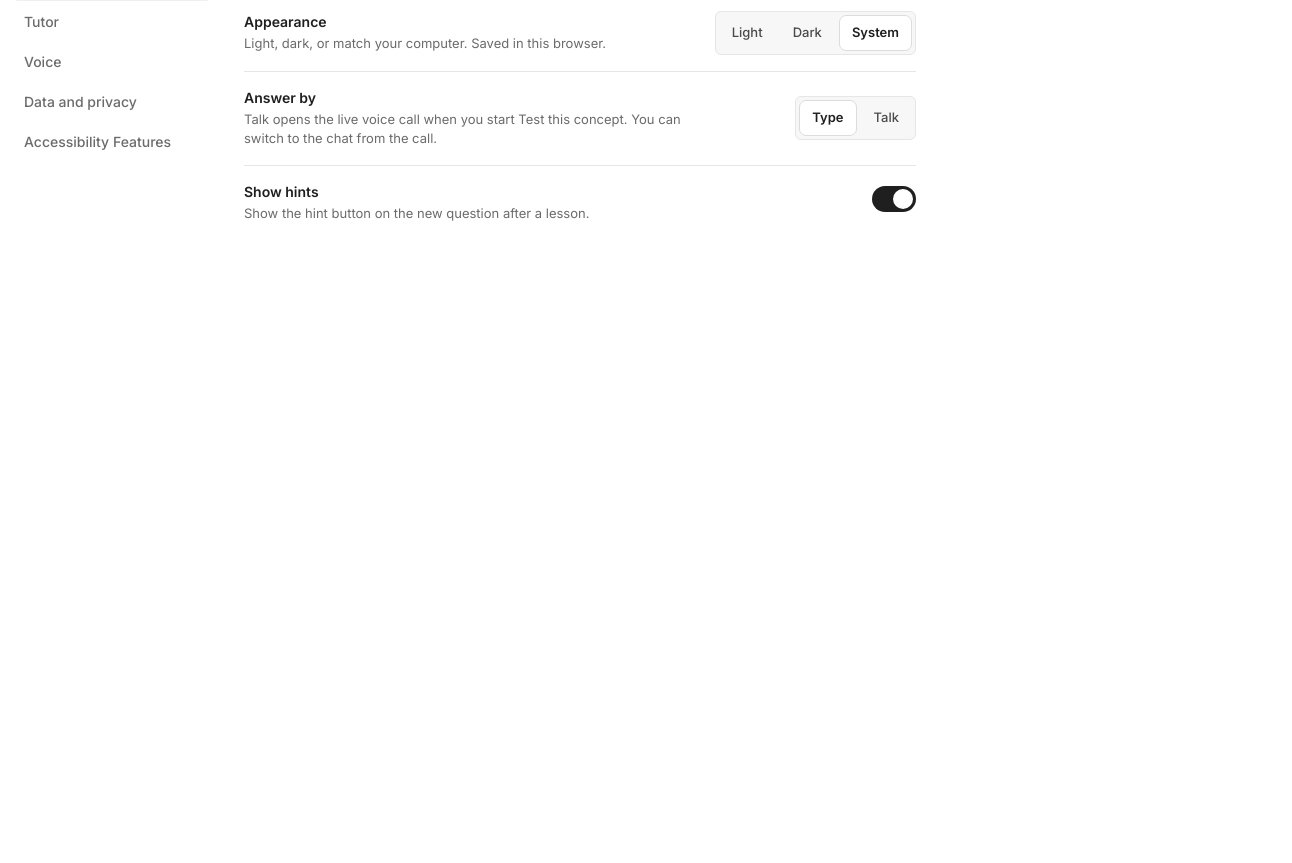
Scenario: Accessibility Features settings › holds dyslexia, vision and the read-questions-aloud setting
This screenshot has width=1292, height=863.
Click the tab "Accessibility Features" at (112, 142), box [12, 123, 212, 161]
(page scrolled)
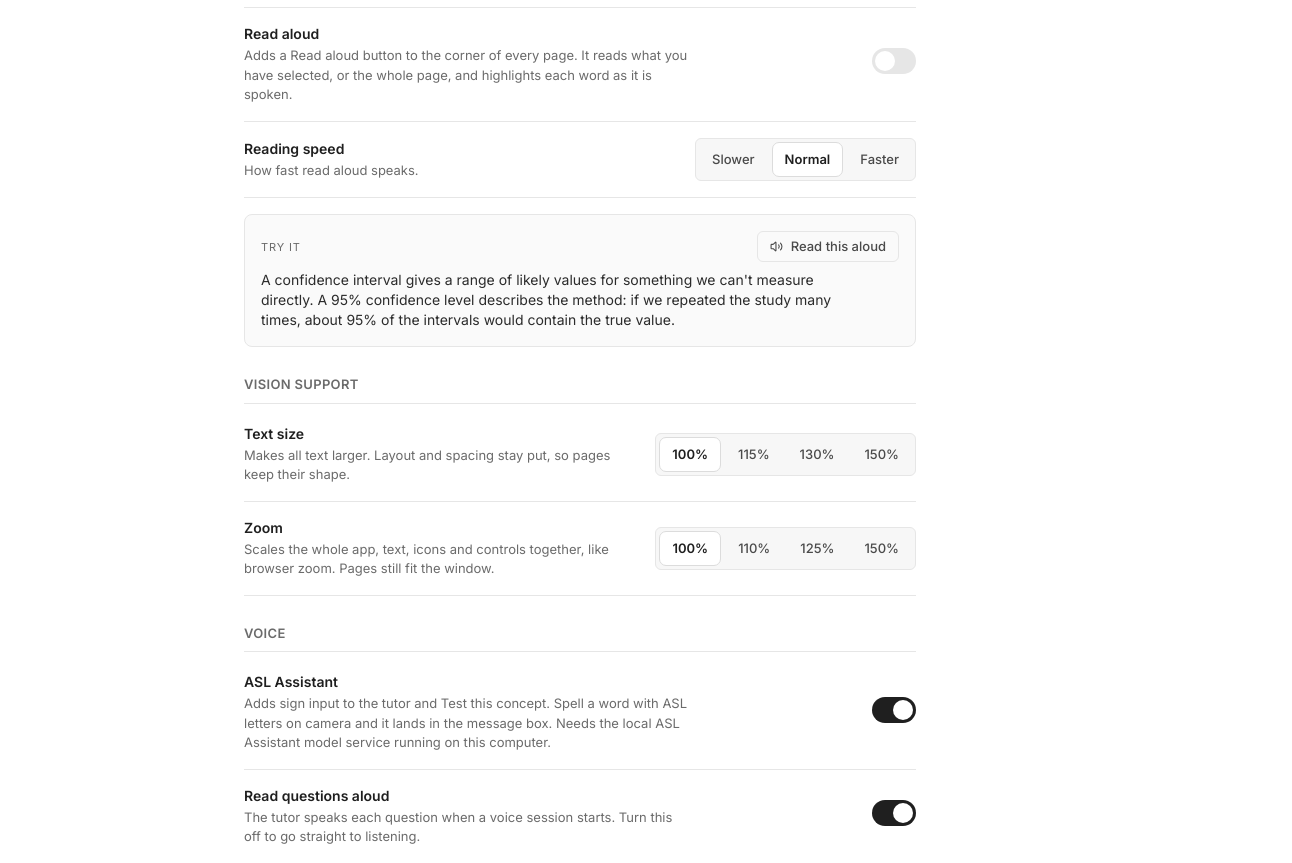
Check: the heading "Vision support" is shown, box [244, 376, 916, 404]
Check: the switch named "Read questions aloud" is shown, box [872, 800, 916, 826]
